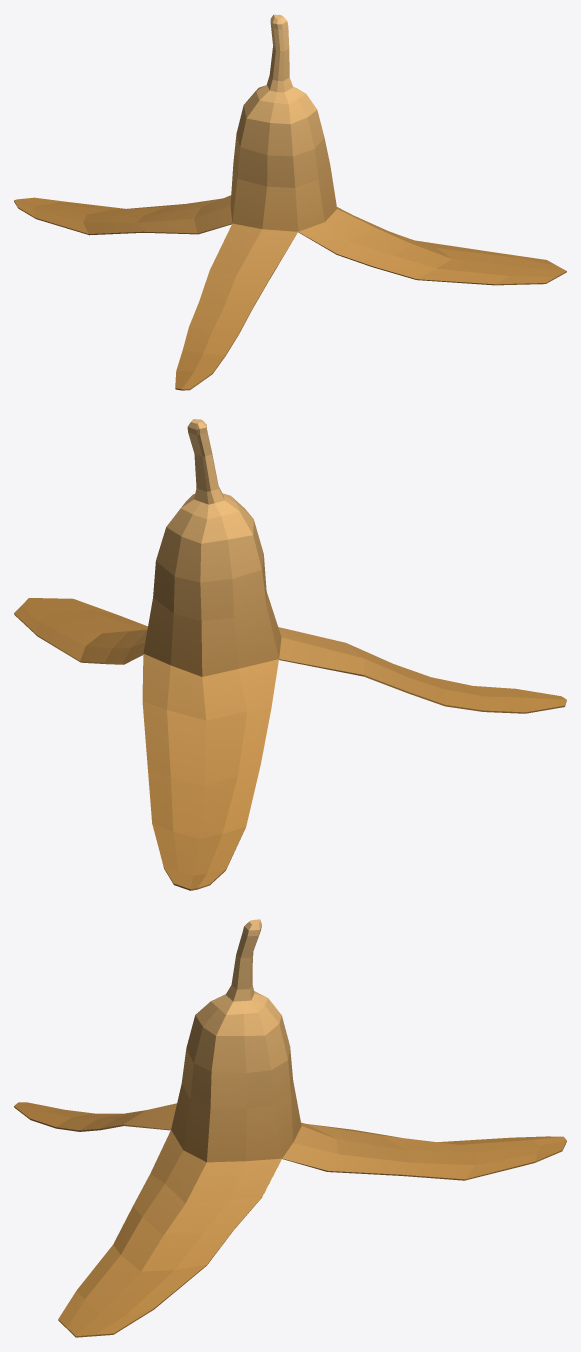
File: banana.fbx
The picture shows the model from 3 angles, top to bottom: view 1: azimuth 30°, elevation 25°; view 2: azimuth 150°, elevation 25°; view 3: azimuth 270°, elevation 25°; orthographic projection. The views are drawn at different scales.
Visible parts, largest first — view 1: Circle; view 2: Circle; view 3: Circle.
Part boxes in pixels (left/top/right/bottom): Circle: left=14, top=14, right=566, bottom=390; Circle: left=14, top=419, right=566, bottom=890; Circle: left=14, top=919, right=566, bottom=1337.
Bounding box in the file's own units: 42.62 × 25.1 × 42.28.
